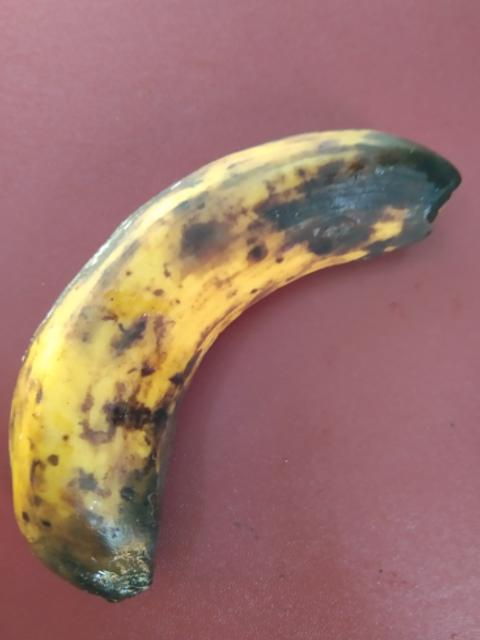rotten: (10, 109, 454, 604)
